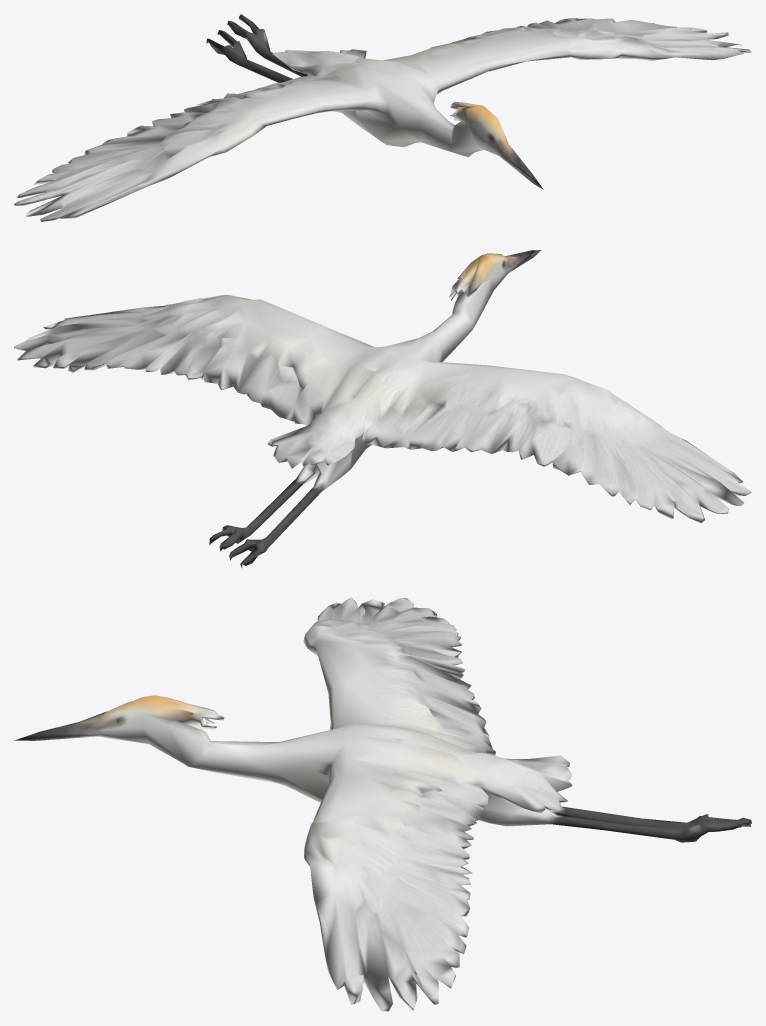
Rendered from heron.glb.
3 renders of one model, top to bottom at view 1: azimuth 30°, elevation 25°; view 2: azimuth 150°, elevation 25°; view 3: azimuth 270°, elevation 25°, orthographic. The views are drawn at different scales.
Visible parts, largest first — view 1: tripo_node_c141b6ae-9790-4748-9dd8-079acdf83b11; view 2: tripo_node_c141b6ae-9790-4748-9dd8-079acdf83b11; view 3: tripo_node_c141b6ae-9790-4748-9dd8-079acdf83b11.
Part boxes in pixels (box(x1,y1,x2,y2)): tripo_node_c141b6ae-9790-4748-9dd8-079acdf83b11: box(14, 14, 751, 221); tripo_node_c141b6ae-9790-4748-9dd8-079acdf83b11: box(14, 250, 751, 568); tripo_node_c141b6ae-9790-4748-9dd8-079acdf83b11: box(14, 597, 751, 1011).
Bounding box in the file's own units: 0.9961 × 0.1702 × 0.7687.
1 material, 1 textured.
